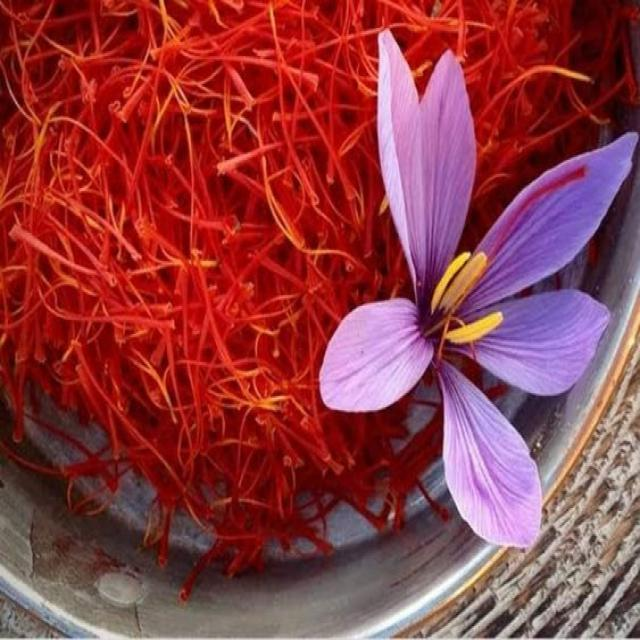Flower: (323, 31, 640, 544)
stigma: (438, 155, 590, 357)
